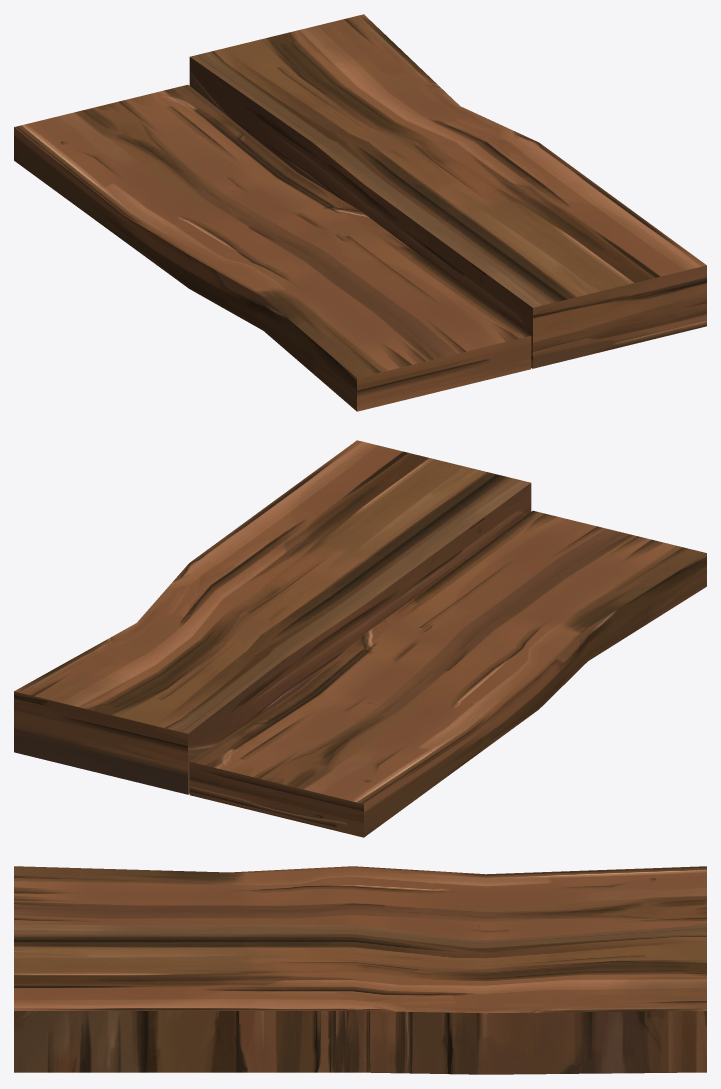
Rendered from Stairs_1.fbx.
The picture shows the model from 3 angles, top to bottom: view 1: azimuth 30°, elevation 25°; view 2: azimuth 150°, elevation 25°; view 3: azimuth 270°, elevation 25°; orthographic projection.
Parts seen in each view (by area): view 1: 1_Stairs; view 2: 1_Stairs; view 3: 1_Stairs.
Boxes of the visible parts, x1,y1,x2,y2 form: 1_Stairs: (14, 14, 706, 411); 1_Stairs: (14, 440, 706, 837); 1_Stairs: (14, 866, 706, 1074).
Bounding box in the file's own units: 131 × 24.81 × 222.
